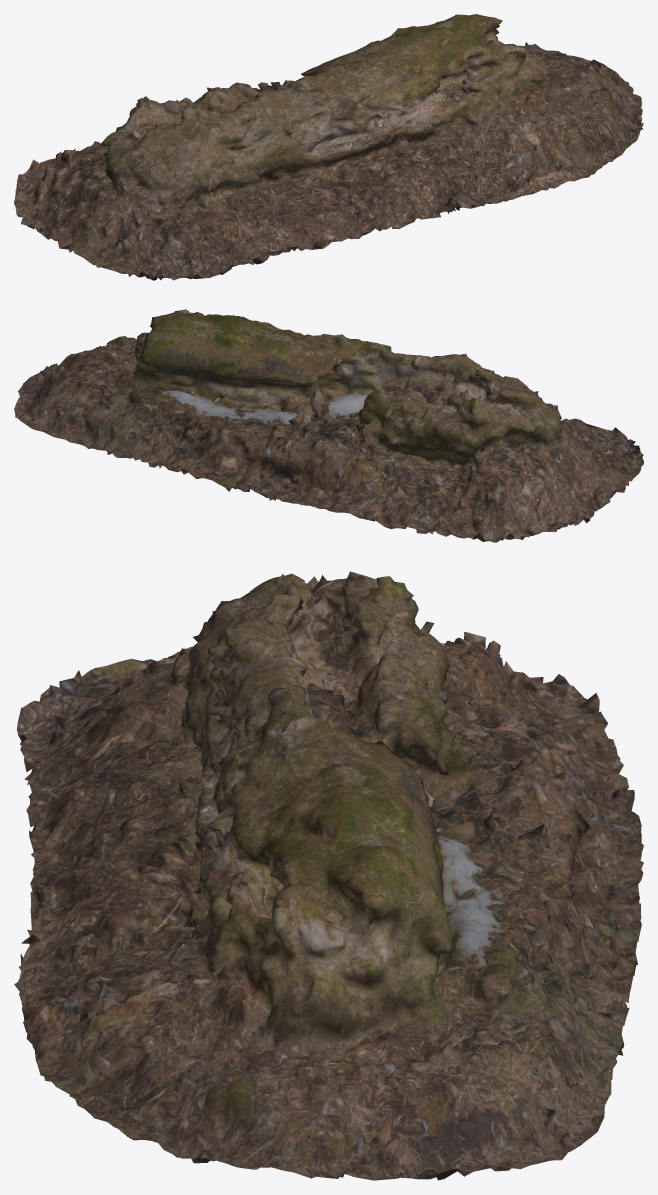
The model's file is PX_Fallen_Trunk_03_LOD0.fbx.
3 views of the same model, one above another, from view 1: azimuth 30°, elevation 25°; view 2: azimuth 150°, elevation 25°; view 3: azimuth 270°, elevation 25° (orthographic). The views are drawn at different scales.
Visible parts, largest first — view 1: PX_Fallen_Trunk_03_LOD0; view 2: PX_Fallen_Trunk_03_LOD0; view 3: PX_Fallen_Trunk_03_LOD0.
Boxes of the visible parts, left/top/right/bottom form: PX_Fallen_Trunk_03_LOD0: left=14, top=14, right=643, bottom=280; PX_Fallen_Trunk_03_LOD0: left=14, top=309, right=643, bottom=542; PX_Fallen_Trunk_03_LOD0: left=14, top=571, right=643, bottom=1180.
Bounding box in the file's own units: 179 × 32.66 × 88.02.
